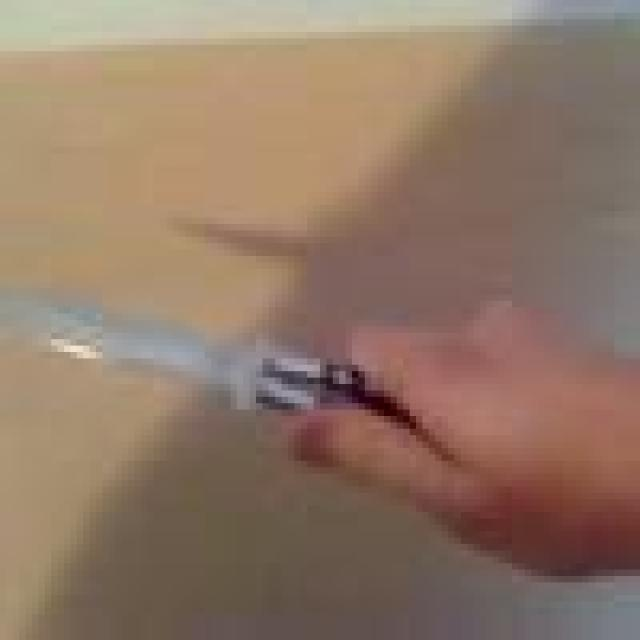knife: (2, 295, 368, 410)
